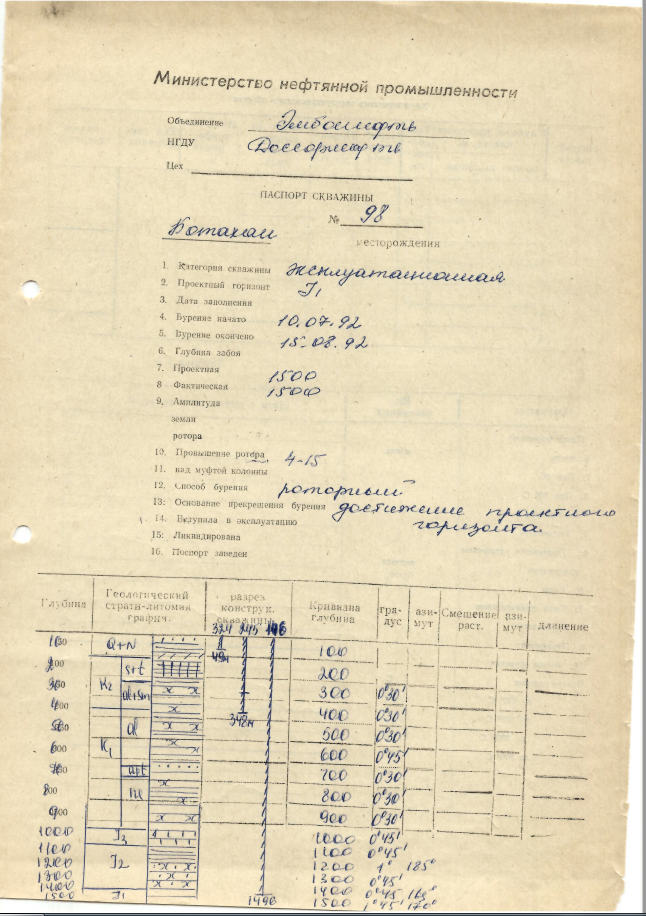Borderless: (1, 572, 626, 916)
